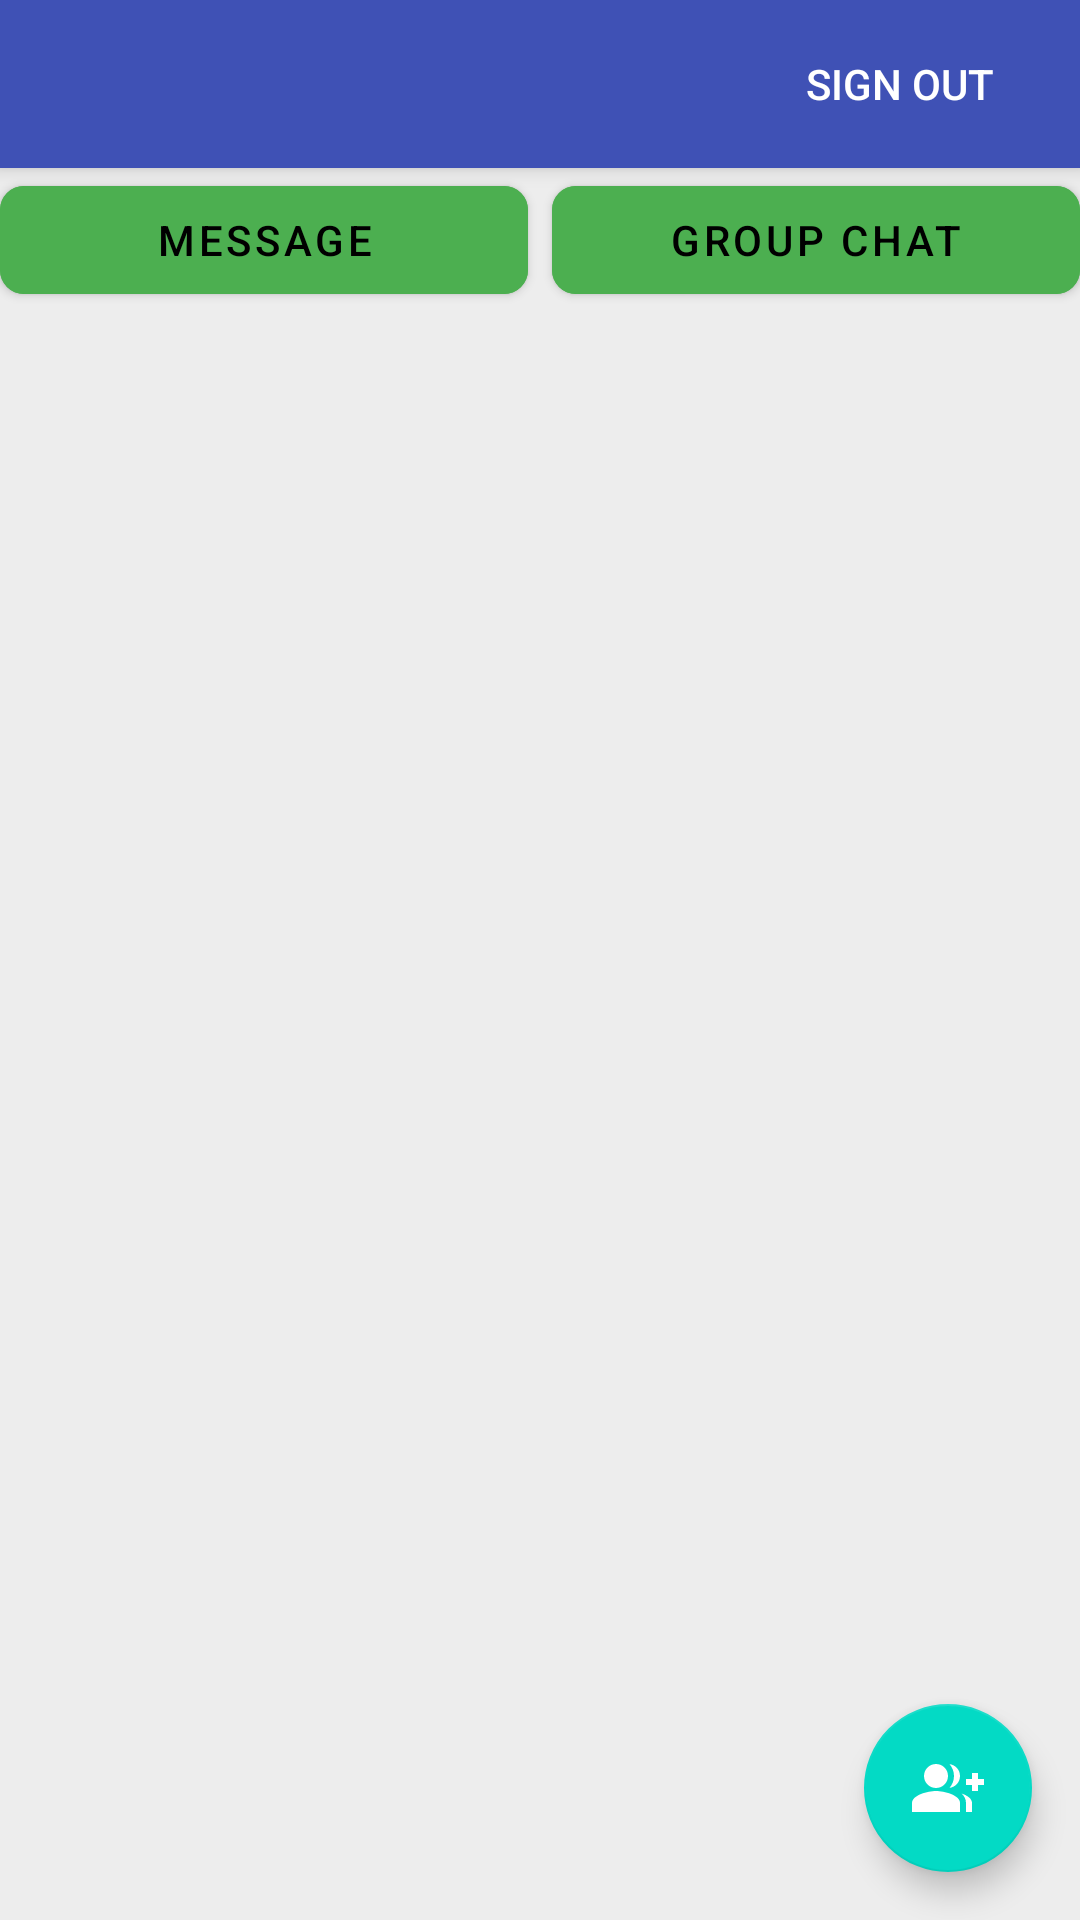

Icon click points for this 1080px×1920px phone screenshot, format (x=x, y=y):
group add: (x=948, y=1788)
